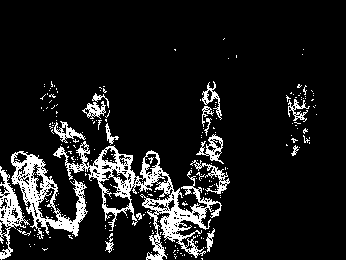person: (11, 151, 69, 242), (91, 146, 137, 251), (134, 149, 171, 258), (52, 123, 90, 223), (170, 186, 213, 258), (189, 136, 234, 198), (287, 84, 318, 156), (83, 85, 120, 144), (201, 78, 224, 138)
